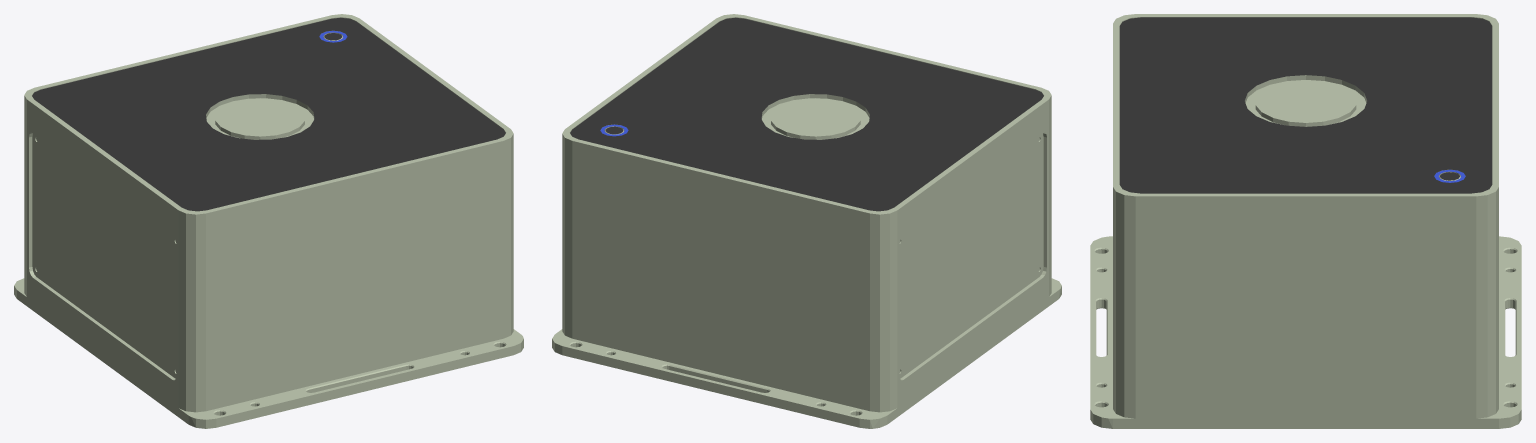
3 views of the same model, side by side, from view 1: azimuth 30°, elevation 25°; view 2: azimuth 150°, elevation 25°; view 3: azimuth 270°, elevation 25° (orthographic). The views are drawn at different scales.
Parts seen in each view (by area): view 1: base_link; view 2: base_link; view 3: base_link.
Part boxes in pixels (box(x1,y1,x2,y2)): base_link: box(14, 14, 523, 428); base_link: box(552, 14, 1061, 428); base_link: box(1090, 14, 1521, 428).
Bounding box in the file's own units: 0.19 × 0.19 × 0.113.
